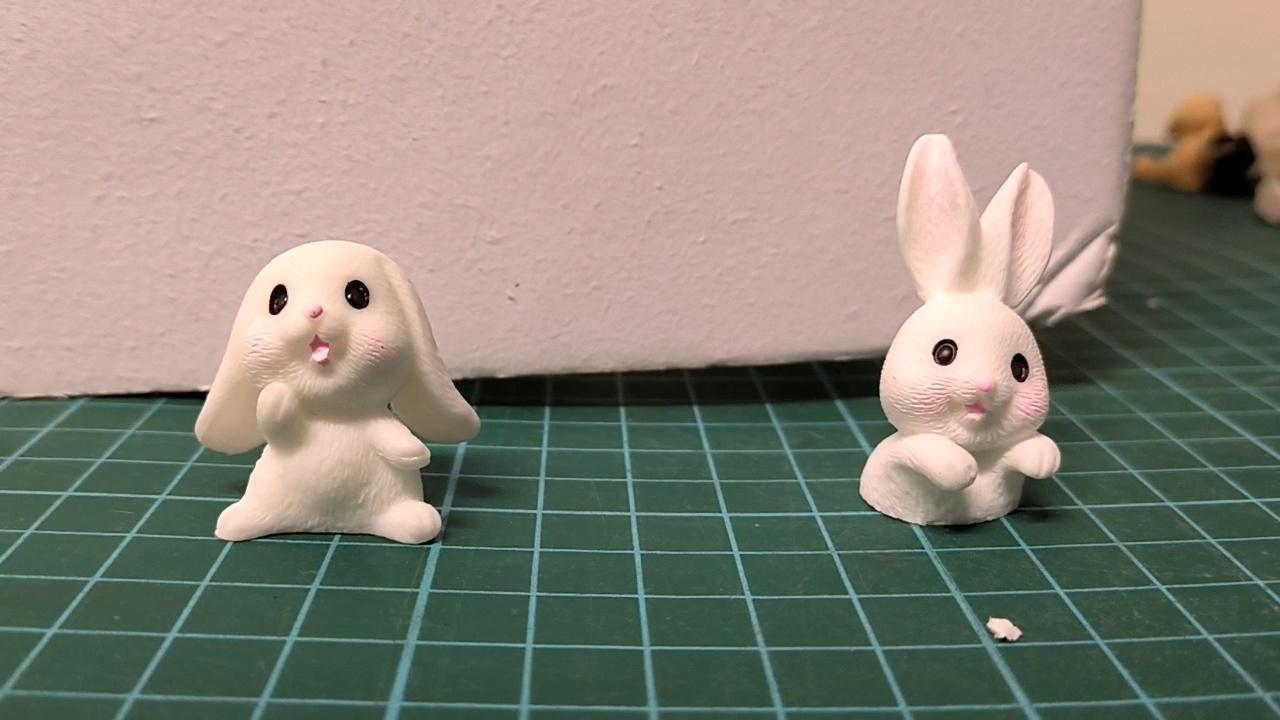pet: (193, 241, 481, 546), (861, 131, 1059, 531)
